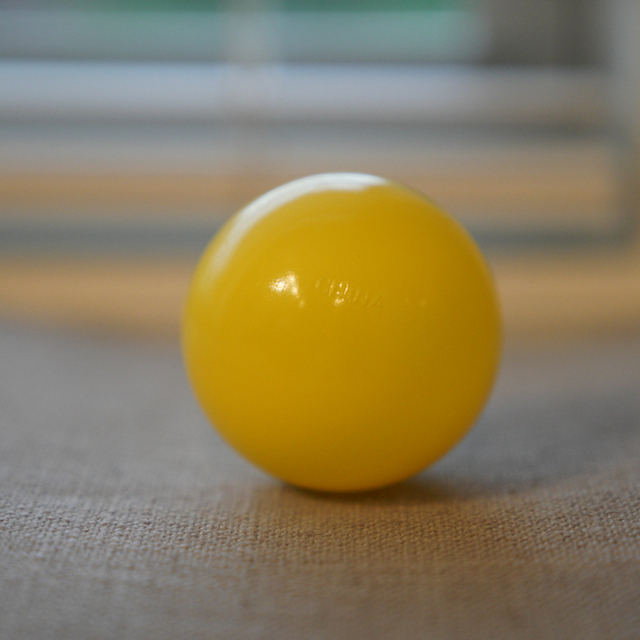Ball: (181, 175, 497, 497)
